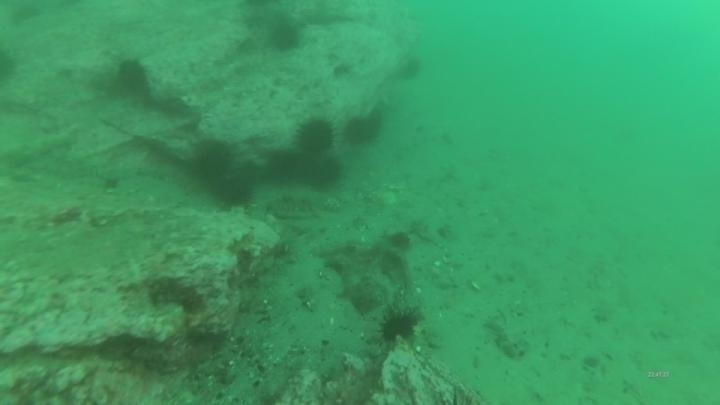echinus: (189, 137, 248, 201), (209, 168, 256, 210), (376, 305, 423, 346), (299, 152, 344, 191), (294, 116, 336, 156), (341, 111, 383, 149), (113, 56, 151, 96), (264, 146, 304, 184), (267, 20, 303, 54), (394, 53, 425, 84)
holothurian: (482, 310, 528, 361), (260, 188, 328, 222)
